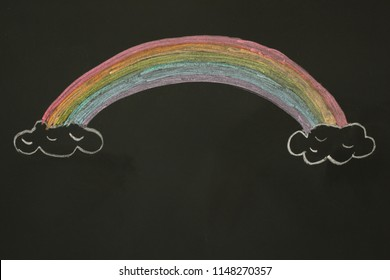cloud: (286, 123, 377, 166), (12, 119, 106, 159)
rainbow: (41, 32, 349, 133)
